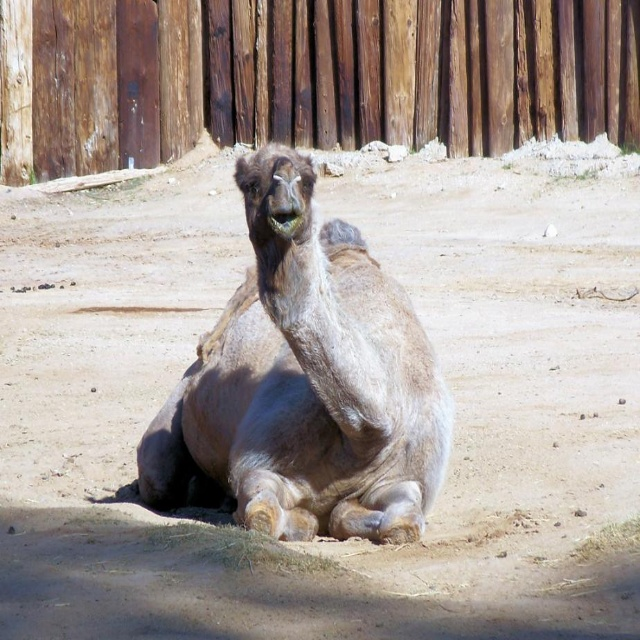Camel: (128, 138, 457, 546)
